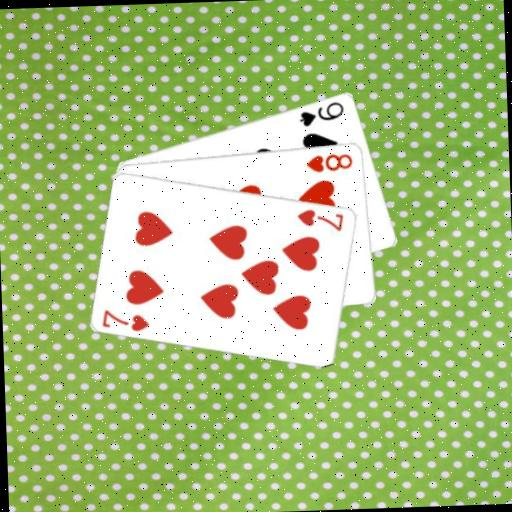7H: (293, 205, 345, 234), (99, 304, 151, 333)
8H: (303, 149, 354, 174)
9S: (295, 97, 346, 127)
